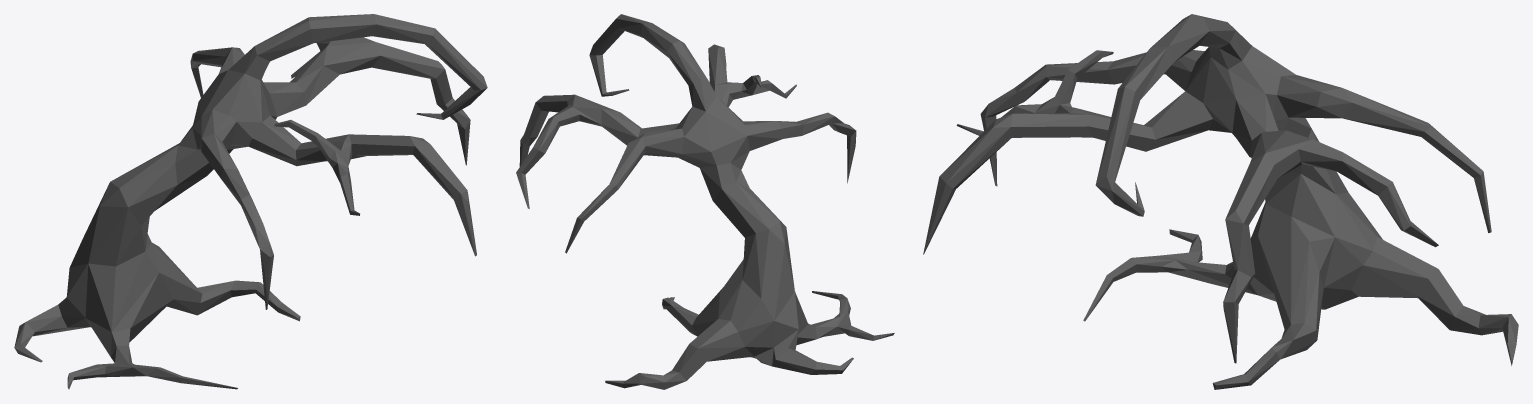
File: HWN20_Tree_07.glb
The picture shows the model from 3 angles, left to right: view 1: azimuth 30°, elevation 25°; view 2: azimuth 150°, elevation 25°; view 3: azimuth 270°, elevation 25°; orthographic projection. The views are drawn at different scales.
Visible parts, largest first — view 1: HWN20_Tree_07; view 2: HWN20_Tree_07; view 3: HWN20_Tree_07.
Boxes of the visible parts, x1,y1,x2,y2 form: HWN20_Tree_07: [14, 14, 487, 389]; HWN20_Tree_07: [516, 14, 894, 389]; HWN20_Tree_07: [923, 14, 1518, 389].
Size of what is drawn, in the model's own units: 8.11 by 5.64 by 8.02.
1 material, 1 textured.
